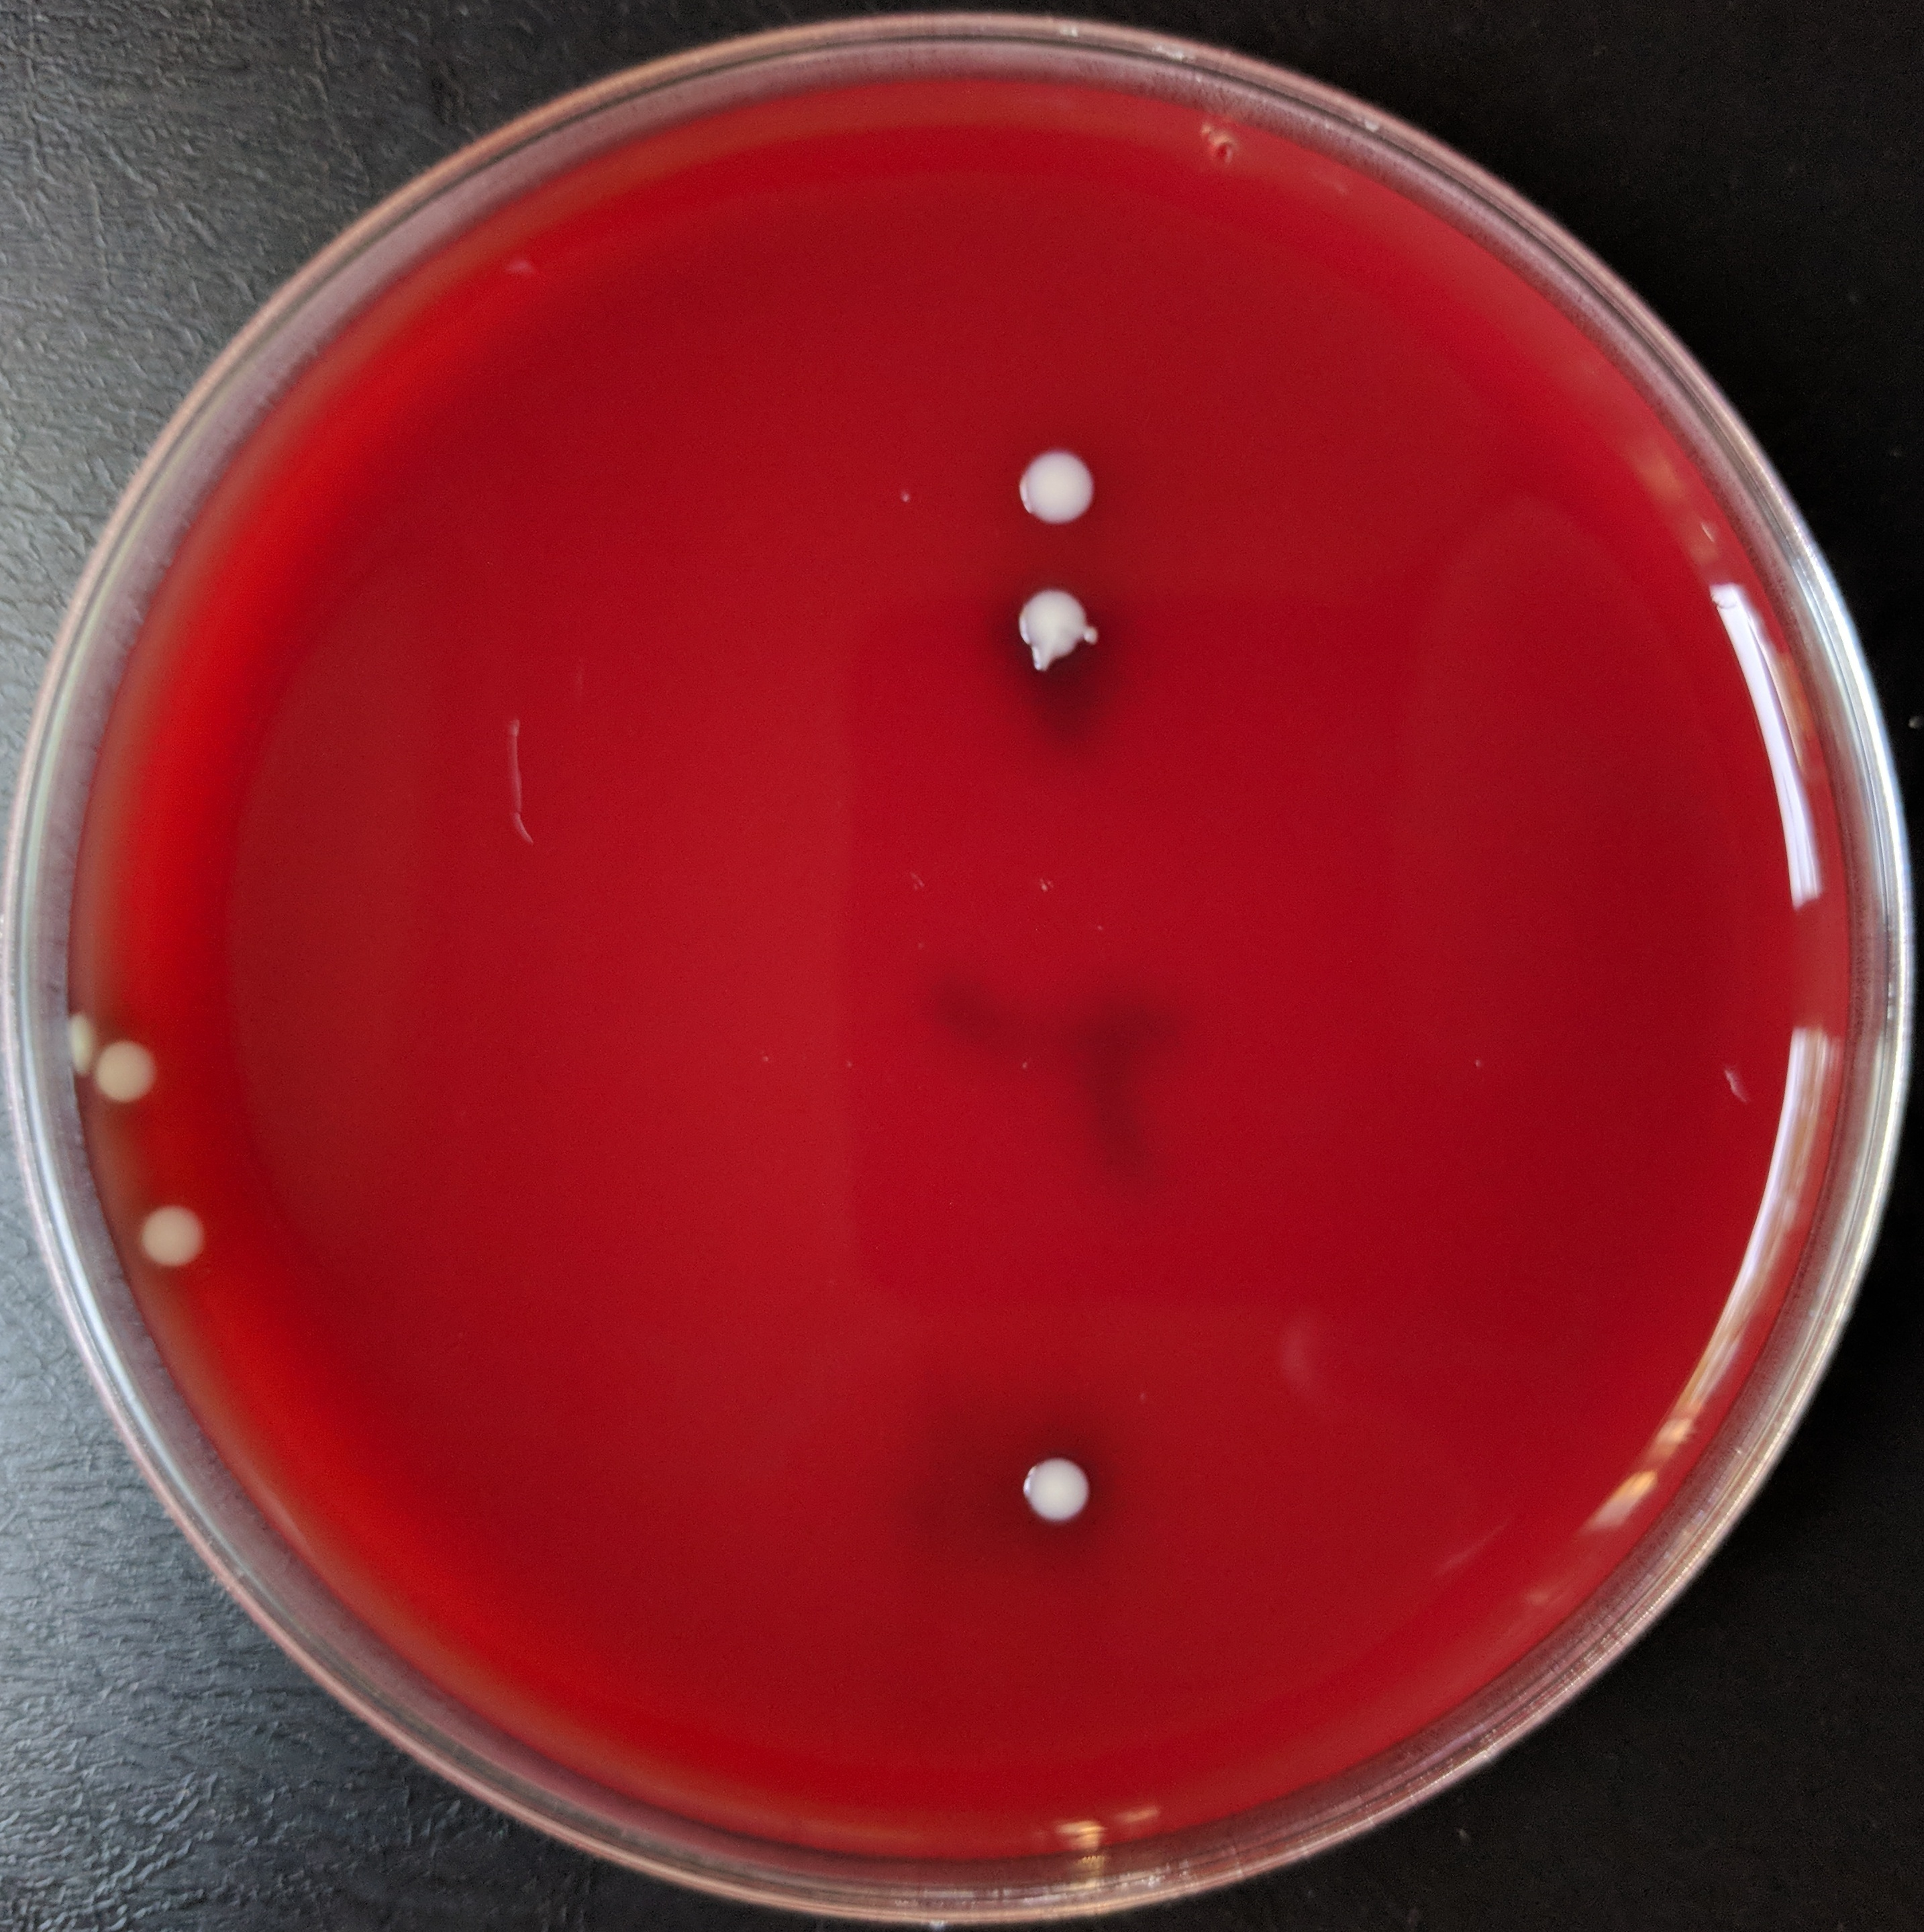sp01: (1003, 583, 1115, 690), (1003, 439, 1110, 534), (1015, 1449, 1112, 1545), (129, 1201, 231, 1284), (88, 1034, 166, 1111)
